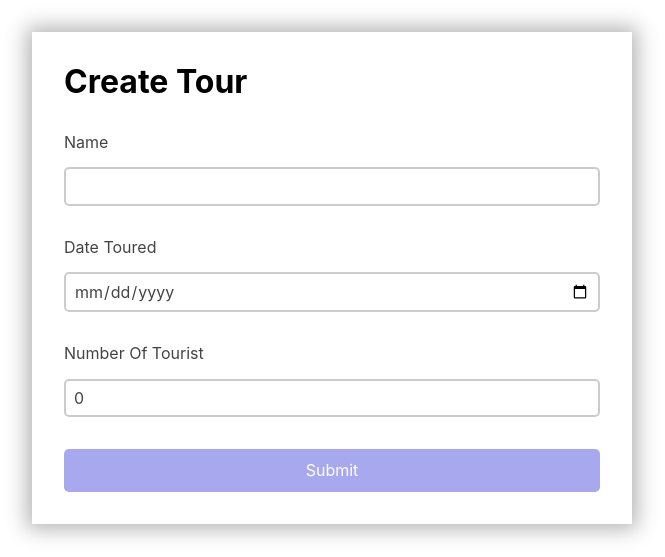
it: Form Error Handling › Should not be able to submit with negative number of students
Type "Ripley" into the field labelled "Name" at [332, 186], box [64,167,600,206]
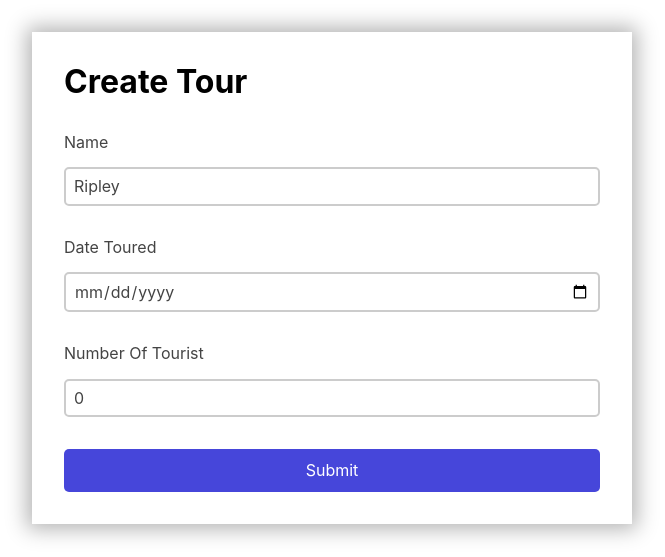
Type "2019-03-29" into the date field labelled "Date Toured" at [332, 292], box [64,272,600,312]
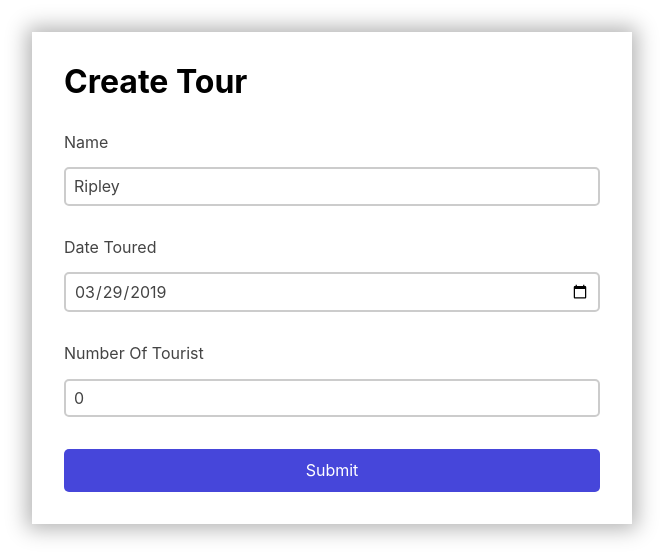
Replace the text in the number field labelled "Number of Tourist" with "-1" at [332, 398], box [64,379,600,417]
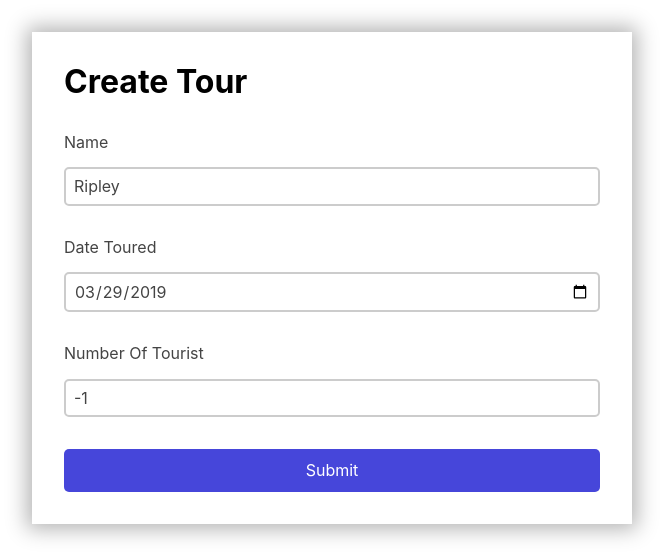
Leave the number field labelled "Number of Tourist", box [64,379,600,417]
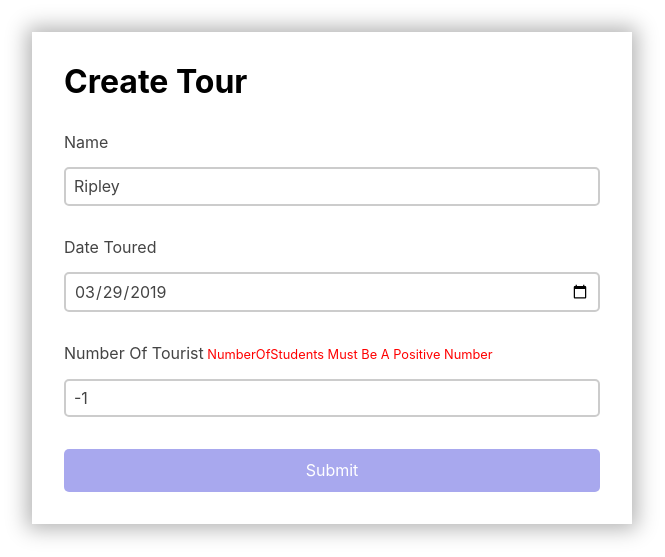
expect the button "Submit" is disabled: met, box [64,450,600,492]
